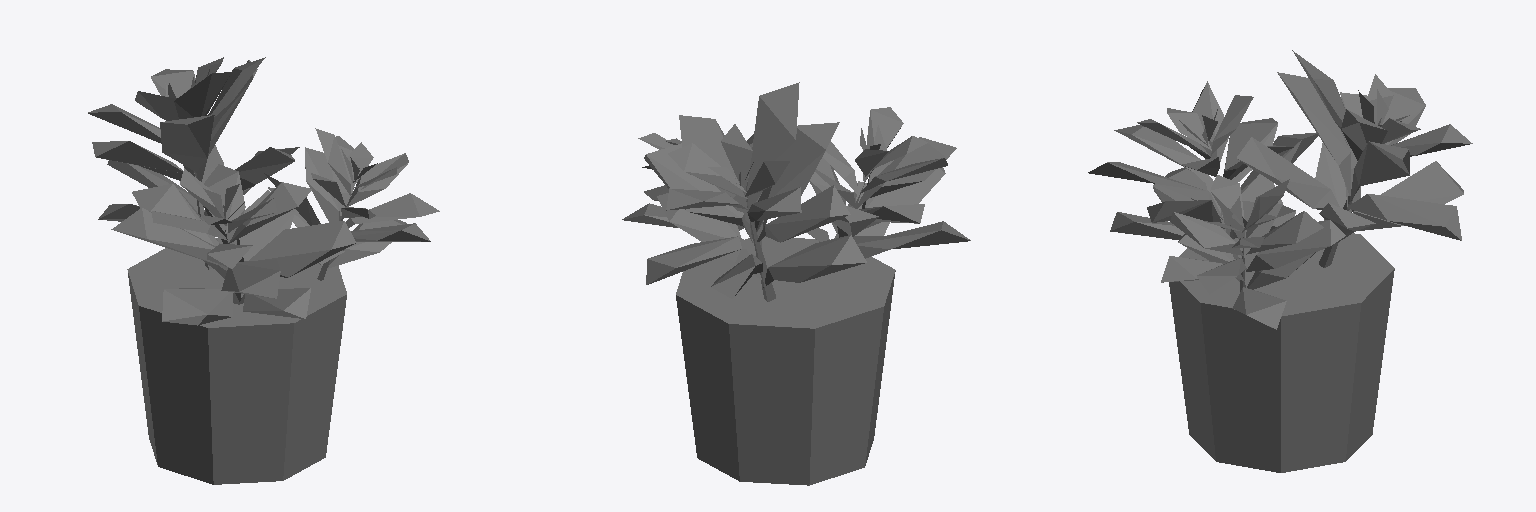
Rendered from plant.obj.
3 views of the same model, side by side, from view 1: azimuth 30°, elevation 25°; view 2: azimuth 150°, elevation 25°; view 3: azimuth 270°, elevation 25° (orthographic).
Parts seen in each view (by area): view 1: Circle.018, Circle.016; view 2: Circle.016, Circle.018; view 3: Circle.018, Circle.016.
Boxes of the visible parts, x1,y1,x2,y2 form: Circle.018: [88, 57, 439, 325]; Circle.016: [127, 238, 346, 484]; Circle.016: [676, 236, 895, 485]; Circle.018: [622, 82, 970, 301]; Circle.018: [1088, 50, 1472, 329]; Circle.016: [1169, 233, 1394, 472].
Bounding box in the file's own units: 17.03 × 20.47 × 19.1.